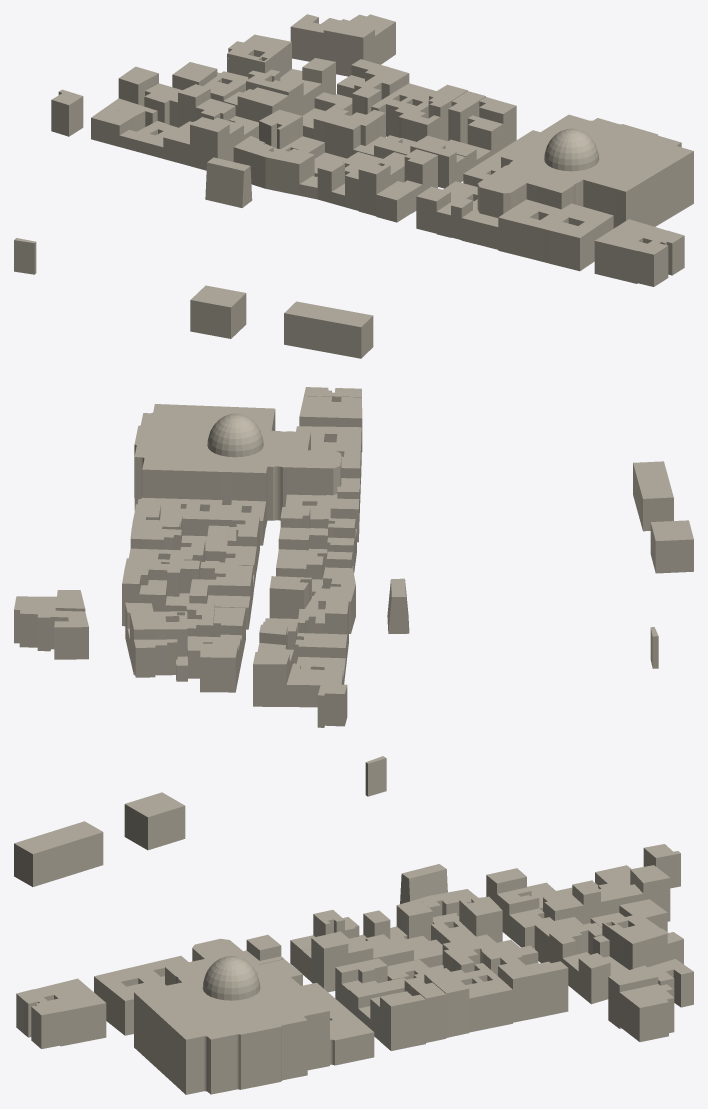
Rendered from senglea_58_27_far.glb.
3 renders of one model, top to bottom at view 1: azimuth 30°, elevation 25°; view 2: azimuth 150°, elevation 25°; view 3: azimuth 270°, elevation 25°, orthographic. The views are drawn at different scales.
Parts seen in each view (by area): view 1: geometry_0; view 2: geometry_0; view 3: geometry_0.
Part boxes in pixels (x1,y1,x2,y2): geometry_0: (14,14,693,358); geometry_0: (14,387,693,727); geometry_0: (14,756,693,1094).
Bounding box in the file's own units: 197 × 26.07 × 189.
